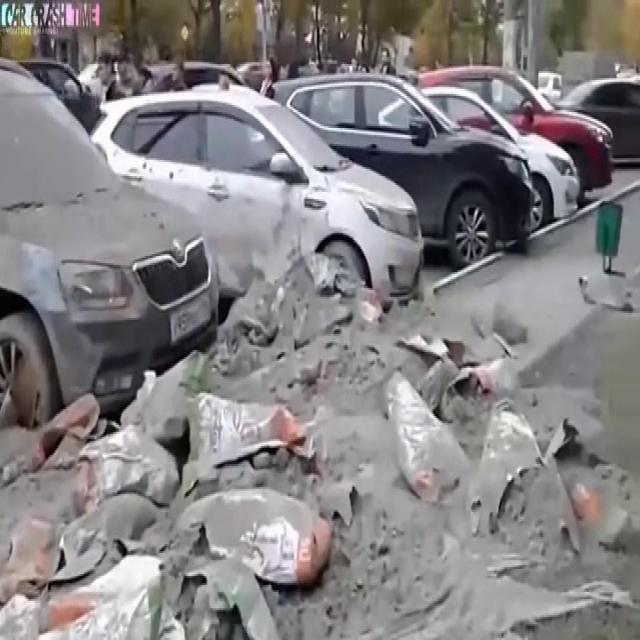accident: (0, 134, 356, 407)
